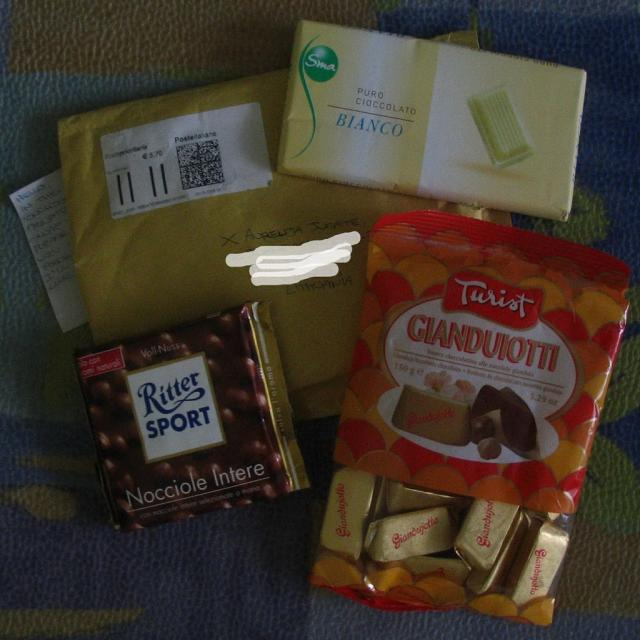rittersport: (127, 357, 226, 461)
